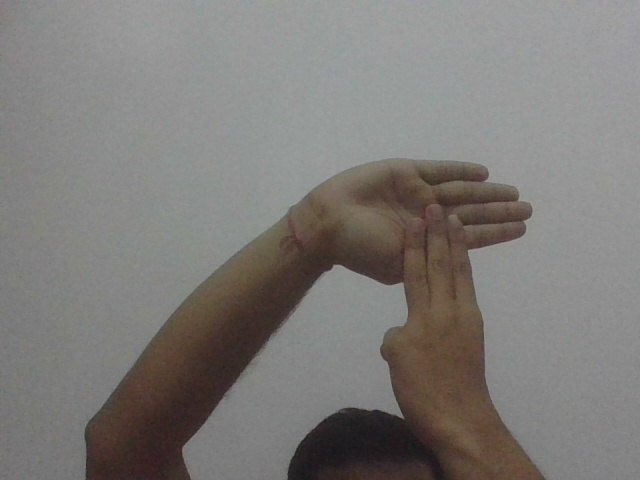M: (318, 155, 535, 347)
